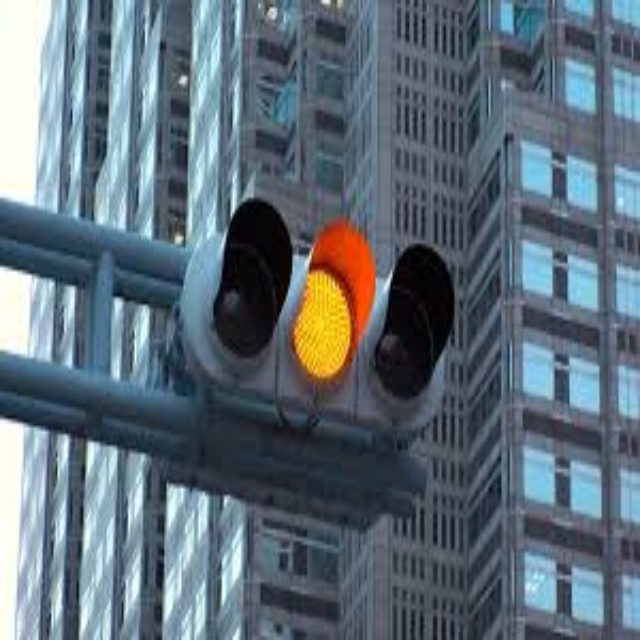yellow_light: (290, 257, 353, 381)
